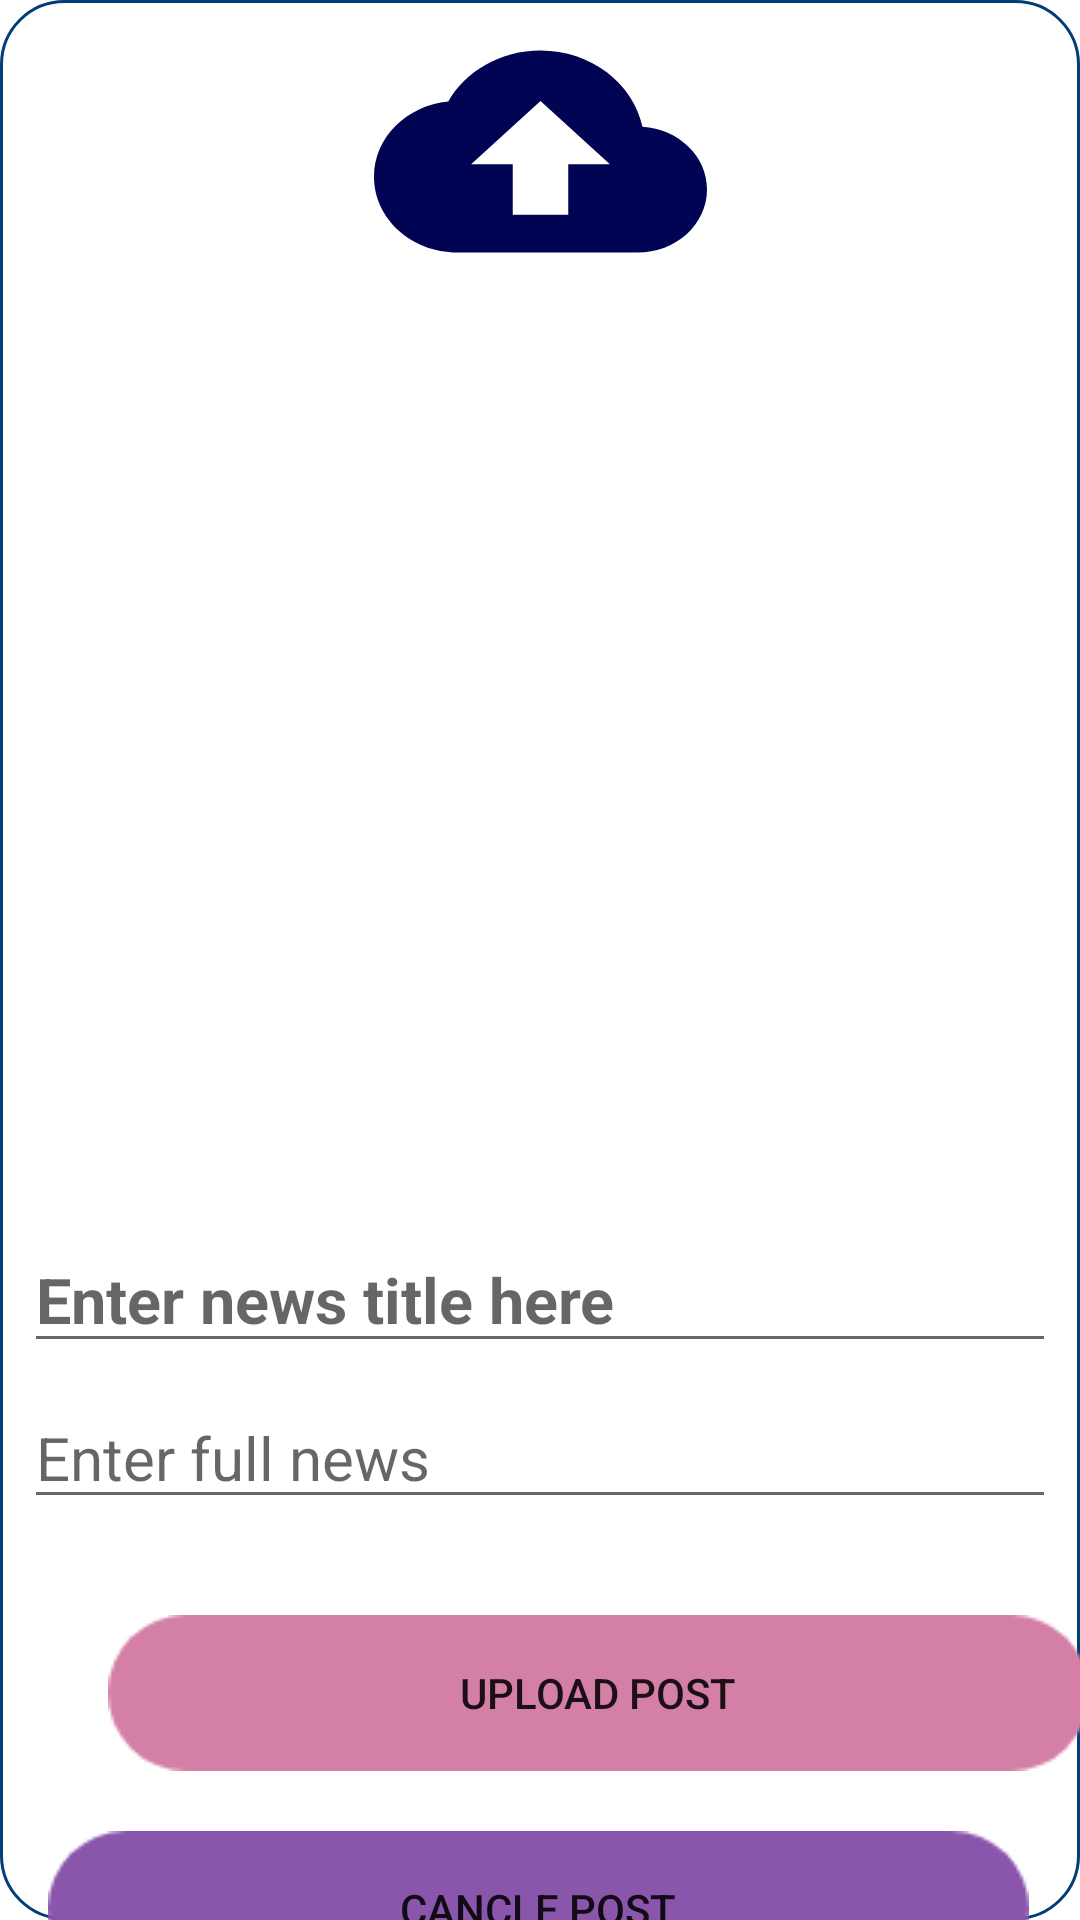

Screen size 1080px×1920px. Icon name, then its center in pixels as (x=x, y=y):
uploadnews: (x=540, y=151)
